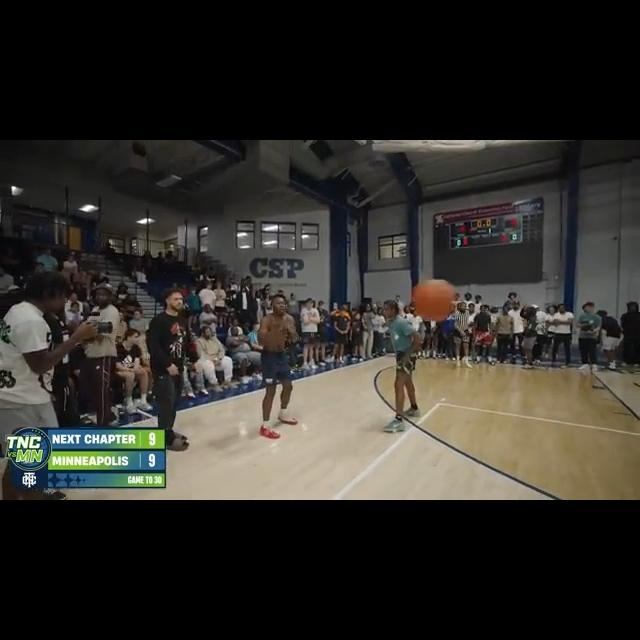basketball: (414, 279, 456, 321)
